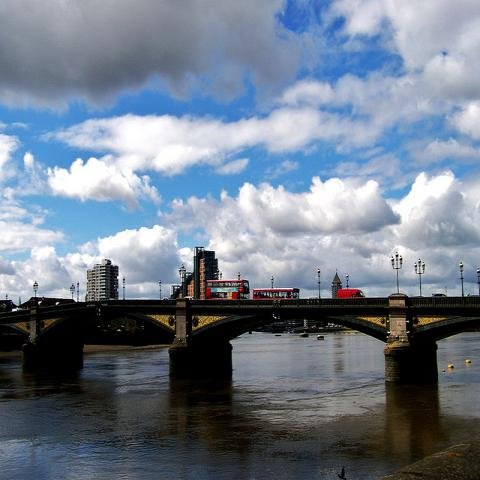bus: (204, 278, 250, 299), (252, 288, 300, 300)
car: (339, 289, 367, 298), (430, 293, 448, 298), (184, 296, 198, 300), (159, 296, 171, 300)
truck: (337, 289, 366, 298)
